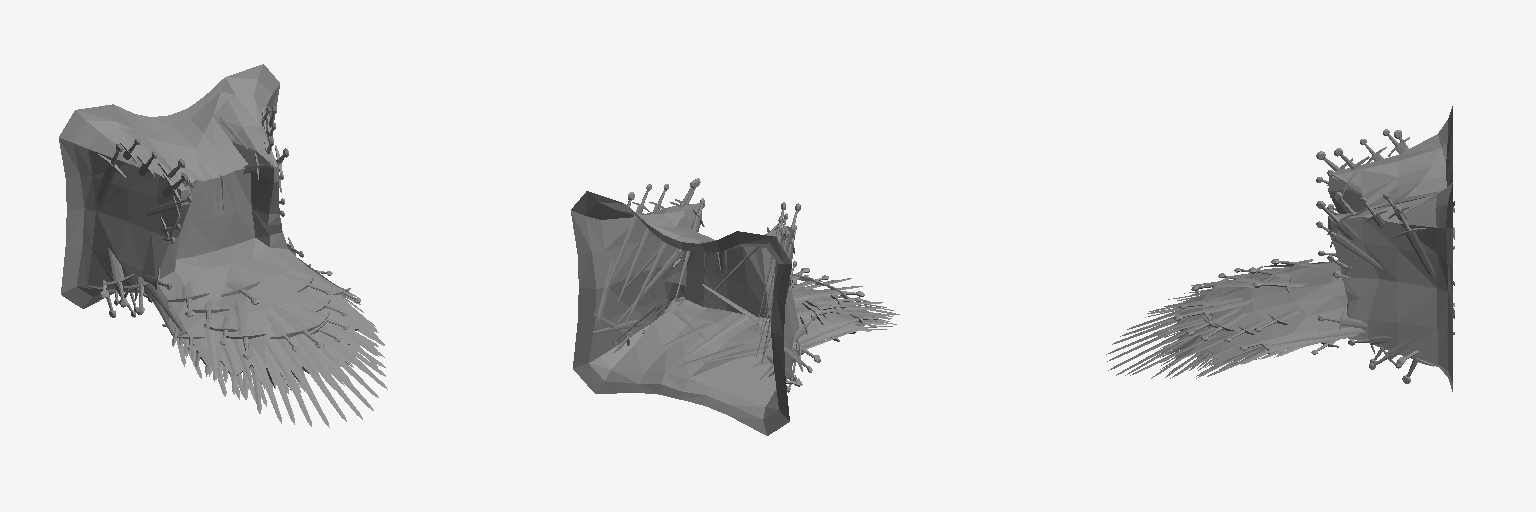
File: IronThrone.obj
3 renders of one model, left to right at view 1: azimuth 30°, elevation 25°; view 2: azimuth 150°, elevation 25°; view 3: azimuth 270°, elevation 25°, orthographic.
Parts seen in each view (by area): view 1: IronThrone; view 2: IronThrone; view 3: IronThrone.
Boxes of the visible parts, x1=… form: IronThrone: x1=59, y1=64, x2=387, y2=427; IronThrone: x1=571, y1=178, x2=899, y2=435; IronThrone: x1=1106, y1=106, x2=1454, y2=391.
Size of the model in its own units: 1.52 by 1.38 by 2.07.